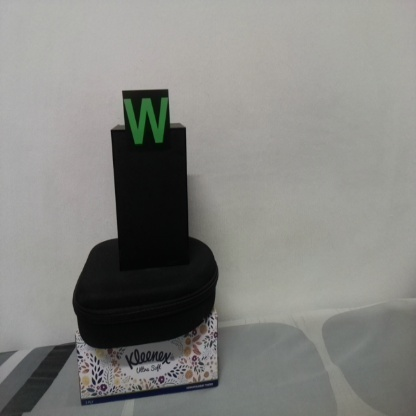id_12: (121, 90, 172, 156)
